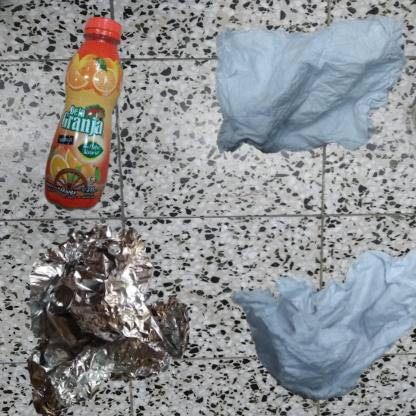aluminio: (10, 213, 204, 416)
botella: (10, 10, 211, 284)
papel: (213, 213, 416, 416), (213, 10, 409, 158)
